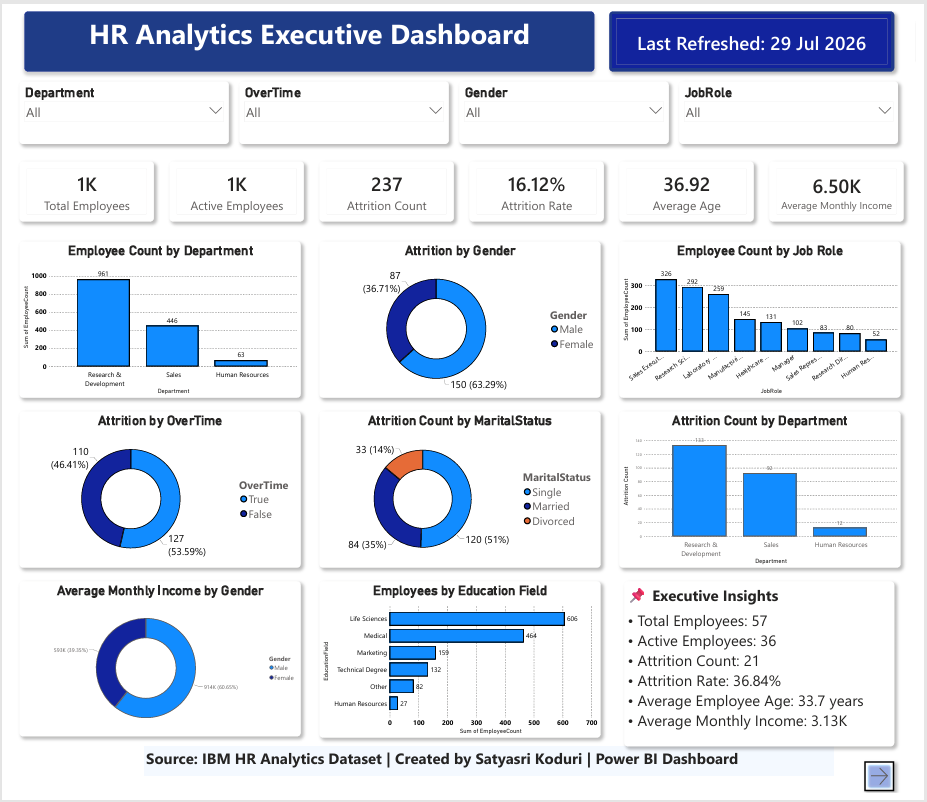

What the dashboard file says about the page in this screenshot:
{"tool":"powerbi","page":{"name":"Page 1","canvas":[2900,2500],"ordinal":0},"visuals":[{"type":"textbox","box":[48,0,1824,192],"z":0},{"type":"slicer","fields":{"Values":["HR-Analytics-dataset.Gender"]},"box":[1440,224,670,200],"z":1000},{"type":"slicer","fields":{"Values":["HR-Analytics-dataset.OverTime"]},"box":[736,224,670,200],"z":2000},{"type":"clusteredColumnChart","title":"Employee Count by Department","fields":{"Category":["HR-Analytics-dataset.Department"],"Y":["Sum(HR-Analytics-dataset.EmployeeCount)"]},"box":[32,736,900,500],"z":3000},{"type":"clusteredColumnChart","fields":{"Category":["HR-Analytics-dataset.Department"],"Y":["HR-Analytics-dataset.Attrition Count"]},"box":[1952,1280,900,500],"z":4000},{"type":"slicer","fields":{"Values":["HR-Analytics-dataset.Department"]},"box":[32,224,670,200],"z":5000},{"type":"slicer","fields":{"Values":["HR-Analytics-dataset.JobRole"]},"box":[2144,224,700,200],"z":6000},{"type":"clusteredColumnChart","title":"Employee Count by Job Role","fields":{"Category":["HR-Analytics-dataset.JobRole"],"Y":["Sum(HR-Analytics-dataset.EmployeeCount)"]},"box":[1952,736,900,500],"z":7000},{"type":"donutChart","title":"Average Monthly Income by Gender","fields":{"Category":["HR-Analytics-dataset.Gender"],"Y":["Sum(HR-Analytics-dataset.EmployeeNumber)"]},"box":[32,1824,900,496],"z":8000},{"type":"donutChart","title":"Attrition by Gender","fields":{"Category":["HR-Analytics-dataset.Gender"],"Y":["HR-Analytics-dataset.Attrition Count"]},"box":[992,736,900,500],"z":9000},{"type":"donutChart","title":"Attrition by OverTime","fields":{"Category":["HR-Analytics-dataset.OverTime"],"Y":["HR-Analytics-dataset.Attrition Count"]},"box":[32,1280,900,500],"z":10000},{"type":"clusteredBarChart","title":"Employees by Education Field","fields":{"Category":["HR-Analytics-dataset.EducationField"],"Y":["Sum(HR-Analytics-dataset.EmployeeCount)"]},"box":[992,1824,900,500],"z":11000},{"type":"donutChart","fields":{"Category":["HR-Analytics-dataset.MaritalStatus"],"Y":["HR-Analytics-dataset.Attrition Count"]},"box":[992,1280,900,500],"z":12000},{"type":"cardVisual","fields":{"Data":["HR-Analytics-dataset.Total Employees"]},"box":[32,480,430,192],"z":13000},{"type":"cardVisual","fields":{"Data":["HR-Analytics-dataset.Active Employees"]},"box":[512,480,430,192],"z":14000},{"type":"cardVisual","fields":{"Data":["HR-Analytics-dataset.Attrition Rate"]},"box":[1472,480,430,192],"z":15000},{"type":"cardVisual","fields":{"Data":["HR-Analytics-dataset.Average Monthly Income"]},"box":[2432,480,430,192],"z":16000},{"type":"cardVisual","fields":{"Data":["HR-Analytics-dataset.Attrition Count"]},"box":[992,480,430,192],"z":17000},{"type":"cardVisual","fields":{"Data":["HR-Analytics-dataset.Average Age"]},"box":[1952,480,430,192],"z":18000},{"type":"cardVisual","fields":{"Data":["HR-Analytics-dataset.Last Refresh"]},"box":[1920,0,912,192],"z":19000},{"type":"textbox","box":[432,2352,2208,96],"z":20000},{"type":"textbox","box":[1968,1824,864,528],"z":21000},{"type":"actionButton","box":[2736,2400,96,96],"z":22000}]}

Visuals, with their boxes in screenshot pixels (x1, y1, x2, y2), scaled from the page's 2900x2500 canvas onto the 927x802 screenshot:
textbox: Rect(15, 0, 598, 62)
slicer - HR-Analytics-dataset.Gender: Rect(460, 72, 674, 136)
slicer - HR-Analytics-dataset.OverTime: Rect(235, 72, 449, 136)
"Employee Count by Department" clusteredColumnChart: Rect(10, 236, 298, 397)
clusteredColumnChart - HR-Analytics-dataset.Department x HR-Analytics-dataset.Attrition Count: Rect(624, 411, 912, 571)
slicer - HR-Analytics-dataset.Department: Rect(10, 72, 224, 136)
slicer - HR-Analytics-dataset.JobRole: Rect(685, 72, 909, 136)
"Employee Count by Job Role" clusteredColumnChart: Rect(624, 236, 912, 397)
"Average Monthly Income by Gender" donutChart: Rect(10, 585, 298, 744)
"Attrition by Gender" donutChart: Rect(317, 236, 605, 397)
"Attrition by OverTime" donutChart: Rect(10, 411, 298, 571)
"Employees by Education Field" clusteredBarChart: Rect(317, 585, 605, 746)
donutChart - HR-Analytics-dataset.MaritalStatus x HR-Analytics-dataset.Attrition Count: Rect(317, 411, 605, 571)
cardVisual - HR-Analytics-dataset.Total Employees: Rect(10, 154, 148, 216)
cardVisual - HR-Analytics-dataset.Active Employees: Rect(164, 154, 301, 216)
cardVisual - HR-Analytics-dataset.Attrition Rate: Rect(471, 154, 608, 216)
cardVisual - HR-Analytics-dataset.Average Monthly Income: Rect(777, 154, 915, 216)
cardVisual - HR-Analytics-dataset.Attrition Count: Rect(317, 154, 455, 216)
cardVisual - HR-Analytics-dataset.Average Age: Rect(624, 154, 761, 216)
cardVisual - HR-Analytics-dataset.Last Refresh: Rect(614, 0, 905, 62)
textbox: Rect(138, 755, 844, 785)
textbox: Rect(629, 585, 905, 755)
actionButton: Rect(875, 770, 905, 801)
